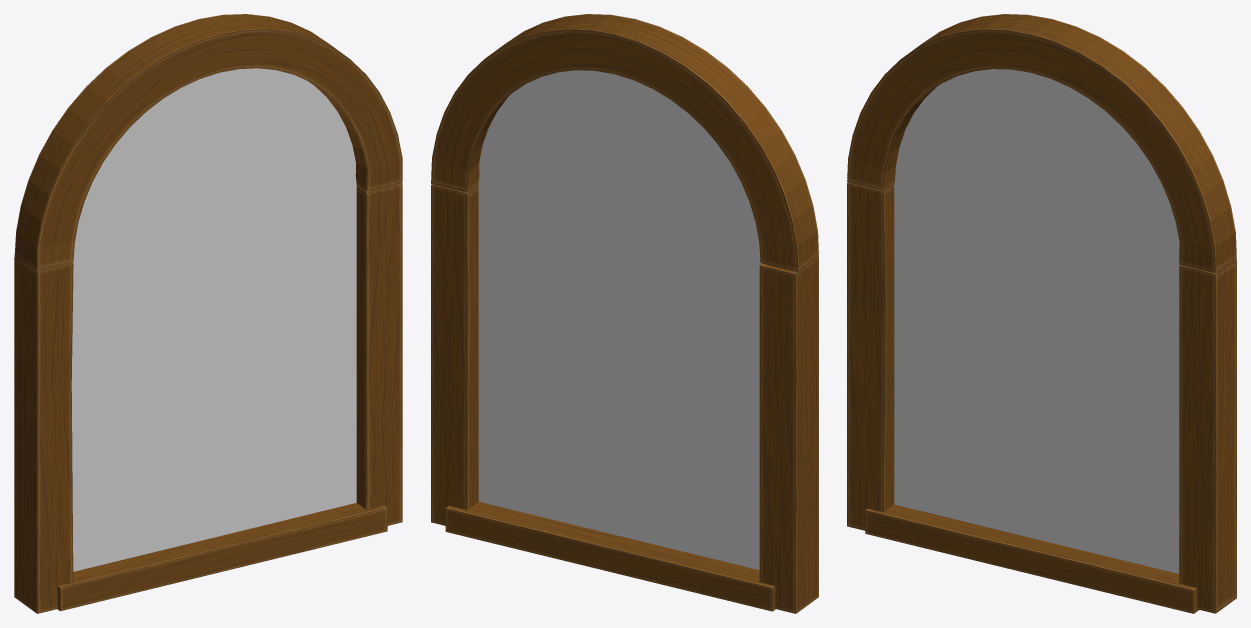
File: SM_House_Window_C.fbx
3 views of the same model, side by side, from view 1: azimuth 30°, elevation 25°; view 2: azimuth 150°, elevation 25°; view 3: azimuth 330°, elevation 25° (orthographic).
Parts seen in each view (by area): view 1: SM_House_Window_C; view 2: SM_House_Window_C; view 3: SM_House_Window_C.
Boxes of the visible parts, box(x1,y1,x2,y2) form: SM_House_Window_C: box(14, 14, 402, 613); SM_House_Window_C: box(431, 14, 818, 613); SM_House_Window_C: box(847, 14, 1236, 613).
Bounding box in the file's own units: 1.4 × 1.94 × 0.1853.
